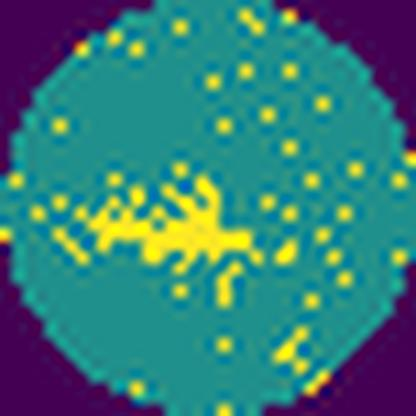Loc: (73, 176, 254, 275)
